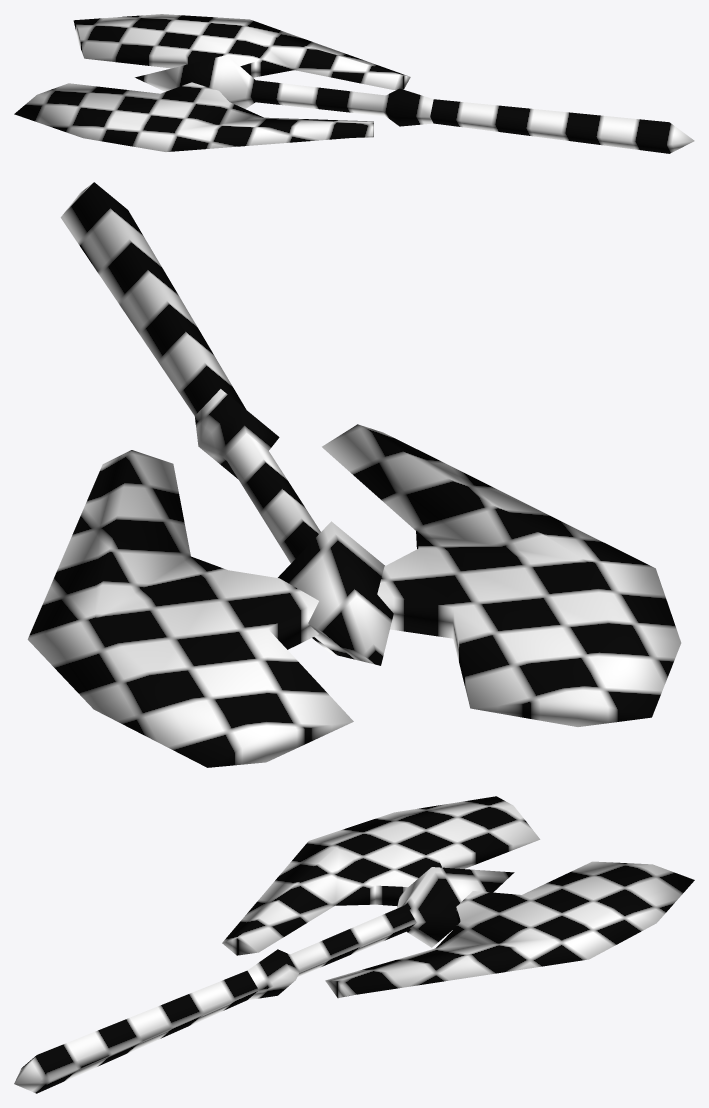
Rendered from initweax4.dae.
The picture shows the model from 3 angles, top to bottom: view 1: azimuth 30°, elevation 25°; view 2: azimuth 150°, elevation 25°; view 3: azimuth 270°, elevation 25°; orthographic projection. The views are drawn at different scales.
Visible parts, largest first — view 1: weapon; view 2: weapon; view 3: weapon.
Part boxes in pixels (<box>): weapon: <box>14,14,694,153</box>; weapon: <box>27,182,681,767</box>; weapon: <box>14,796,694,1093</box>.
Size of the model in its own units: 2.43 by 2.43 by 0.3185.
Materials: 1 (1 with a texture image).
